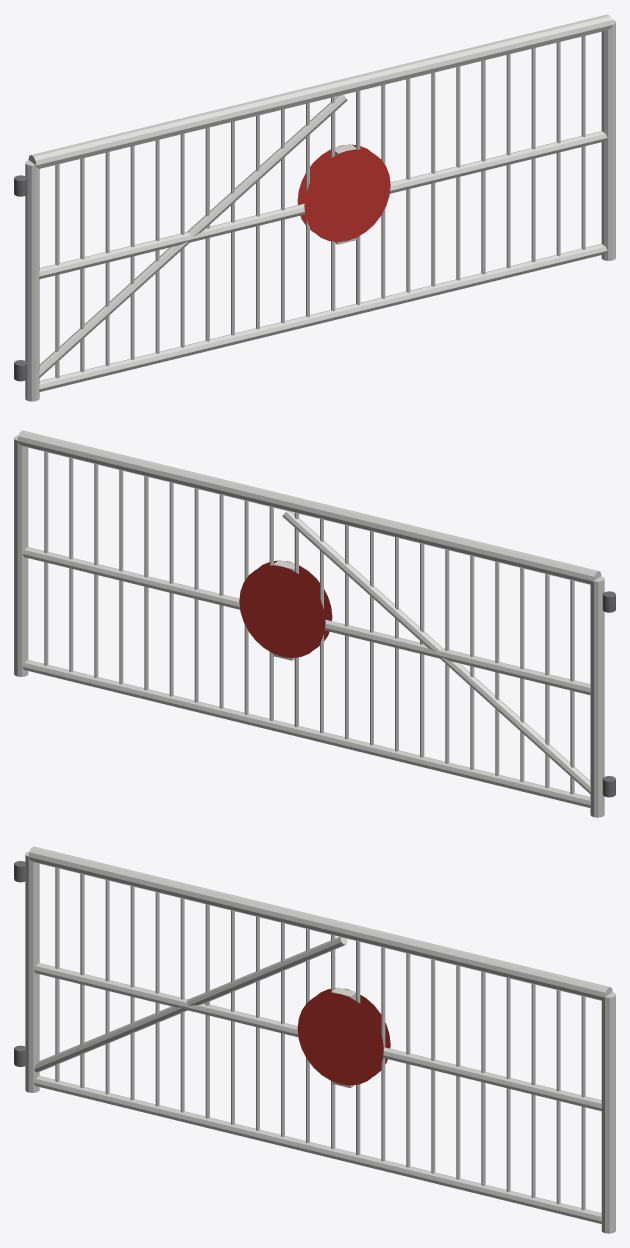
Rendered from rail.crossing.gate_30.glb.
3 views of the same model, one above another, from view 1: azimuth 30°, elevation 25°; view 2: azimuth 150°, elevation 25°; view 3: azimuth 330°, elevation 25° (orthographic).
Visible parts, largest first — view 1: main__paint_eed, main__paint_c33, main__galv_777; view 2: main__paint_eed, main__paint_c33, main__galv_777; view 3: main__paint_eed, main__paint_c33.
Boxes of the visible parts, x1=… form: main__paint_eed: x1=25, y1=14, x2=615, y2=401; main__paint_c33: x1=297, y1=144, x2=390, y2=241; main__galv_777: x1=14, y1=175, x2=27, y2=381; main__paint_eed: x1=14, y1=430, x2=604, y2=817; main__paint_c33: x1=239, y1=560, x2=332, y2=657; main__galv_777: x1=602, y1=591, x2=615, y2=797; main__paint_eed: x1=25, y1=846, x2=615, y2=1233; main__paint_c33: x1=297, y1=988, x2=390, y2=1085.
Size of the model in its own units: 3.06 by 1.18 by 0.07.
